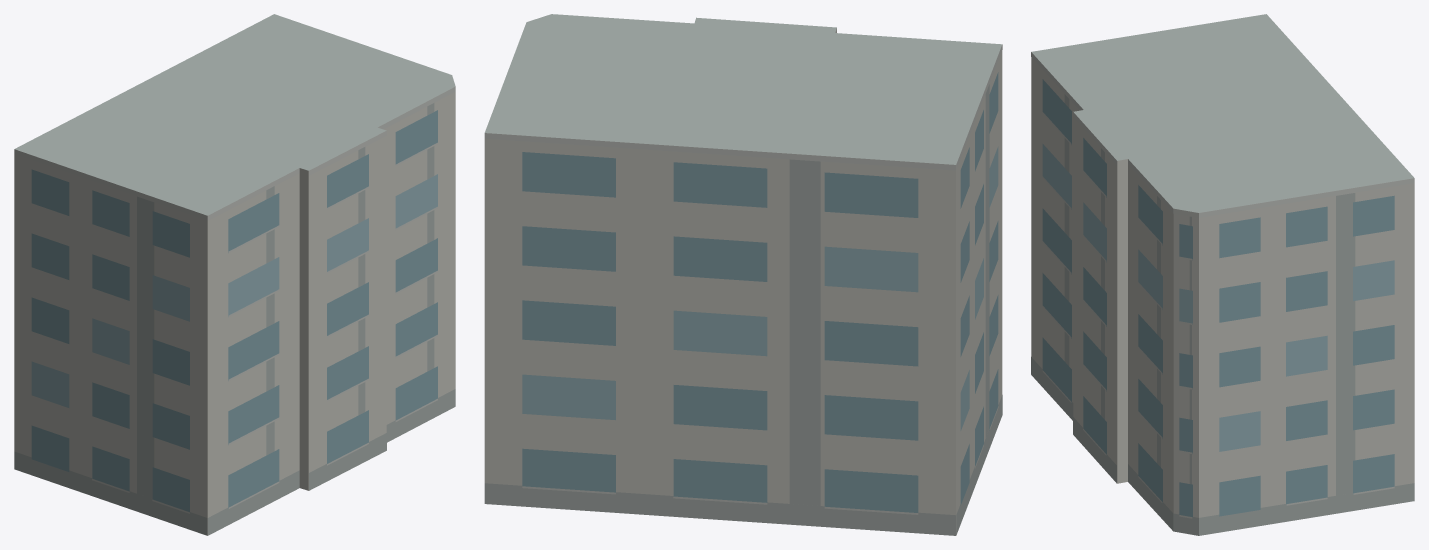
The model's file is survey-upis-32843937.glb.
The picture shows the model from 3 angles, left to right: view 1: azimuth 30°, elevation 25°; view 2: azimuth 150°, elevation 25°; view 3: azimuth 270°, elevation 25°; orthographic projection. The views are drawn at different scales.
Parts seen in each view (by area): view 1: survey-upis-32843937.tmp; view 2: survey-upis-32843937.tmp; view 3: survey-upis-32843937.tmp.
Boxes of the visible parts, bbox=[...] form: survey-upis-32843937.tmp: bbox=[14, 14, 455, 535]; survey-upis-32843937.tmp: bbox=[484, 14, 1002, 535]; survey-upis-32843937.tmp: bbox=[1031, 14, 1414, 535].
Size of the model in its own units: 20.63 by 15.6 by 16.81.
